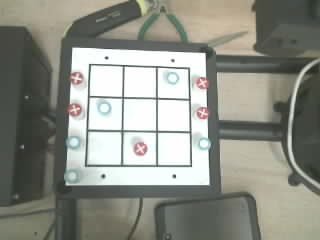blue circle: (97, 100, 111, 115), (64, 169, 79, 183), (66, 136, 80, 149), (166, 72, 179, 84), (198, 138, 210, 149)
board: (64, 48, 212, 185)
cells: (87, 132, 121, 164), (123, 132, 156, 164), (88, 98, 122, 129), (158, 133, 190, 165), (123, 99, 155, 130), (90, 66, 122, 96), (158, 100, 189, 130), (158, 68, 189, 98), (124, 67, 155, 96)
grid: (85, 64, 191, 166)
red cross: (134, 142, 148, 156), (67, 103, 81, 116), (196, 107, 210, 120), (69, 72, 83, 84), (196, 77, 208, 88)
